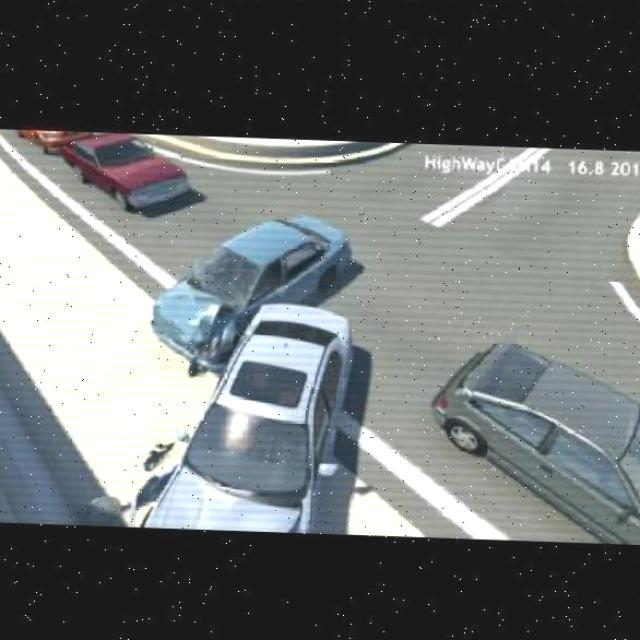accident: (123, 211, 362, 540)
